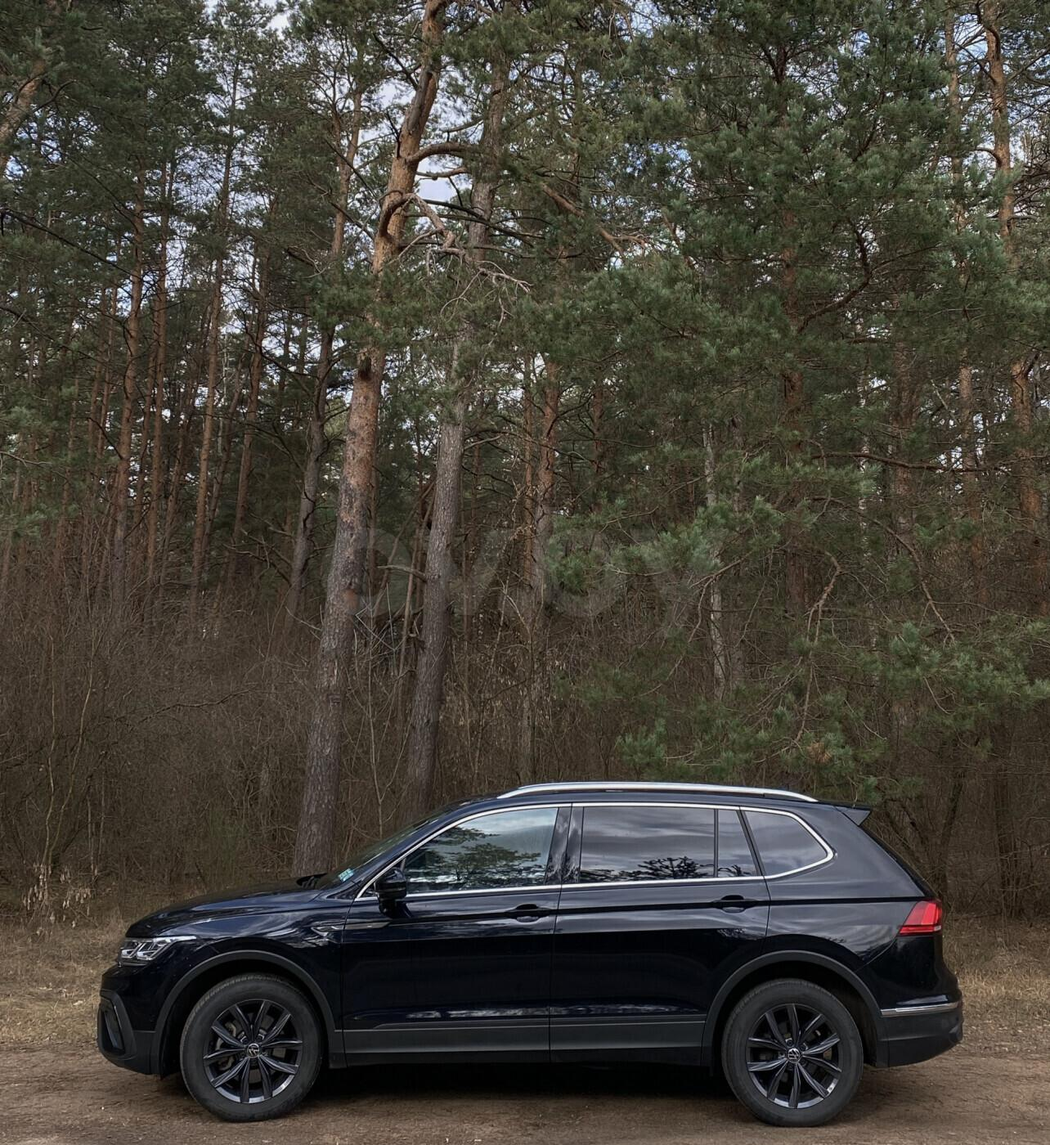Tiguan_2020-2024: (96, 780, 967, 1122)
